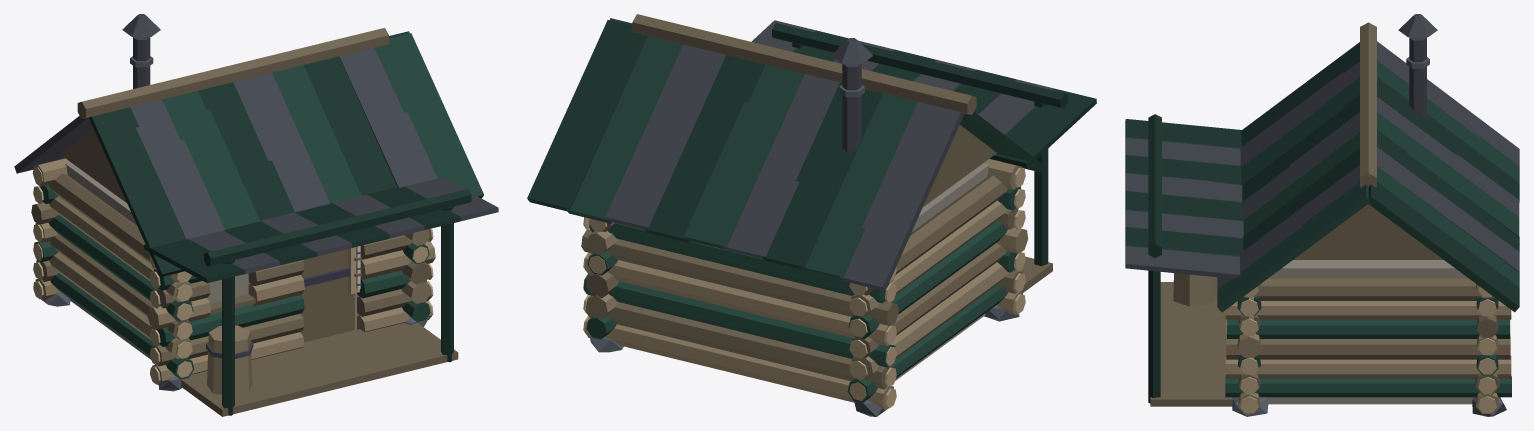
File: tally_house.glb
3 renders of one model, left to right at view 1: azimuth 30°, elevation 25°; view 2: azimuth 150°, elevation 25°; view 3: azimuth 270°, elevation 25°, orthographic. The views are drawn at different scales.
Visible parts, largest first — view 1: driftwood_d45, pine_d45, slate_d40, pine_d30, driftwood_d32, pine_d25, driftwood_d10, bone_d40, slate_d20; view 2: pine_d45, slate_d40, driftwood_d45, pine_d30, driftwood_d32, pine_d25, driftwood_d10, bone_d40, slate_d20; view 3: pine_d45, driftwood_d45, slate_d40, pine_d30, driftwood_d32, pine_d25, bone_d40, driftwood_d10, slate_d20.
Boxes of the visible parts, x1,y1,x2,y2 form: driftwood_d45: (31, 28, 458, 416); pine_d45: (89, 31, 471, 415); slate_d40: (14, 14, 498, 358); pine_d30: (63, 33, 483, 229); driftwood_d32: (32, 158, 435, 395); pine_d25: (34, 185, 430, 379); driftwood_d10: (33, 167, 433, 384); bone_d40: (65, 162, 402, 359); slate_d20: (43, 56, 429, 391); pine_d45: (527, 20, 1096, 269); slate_d40: (605, 20, 1054, 290); driftwood_d45: (581, 14, 1052, 389); pine_d30: (566, 18, 917, 279); driftwood_d32: (584, 159, 1028, 410); pine_d25: (583, 186, 1020, 402); driftwood_d10: (583, 168, 1025, 408); bone_d40: (895, 162, 989, 380); slate_d20: (589, 85, 1019, 416); pine_d45: (1125, 42, 1519, 403); driftwood_d45: (1150, 22, 1510, 406); slate_d40: (1125, 14, 1519, 289); pine_d30: (1217, 61, 1519, 312); driftwood_d32: (1173, 273, 1511, 413); pine_d25: (1225, 296, 1511, 397); bone_d40: (1268, 260, 1473, 404); driftwood_d10: (1226, 286, 1510, 413); slate_d20: (1232, 57, 1506, 416).
Bounding box in the file's own units: 3.9 × 3.44 × 3.98.
